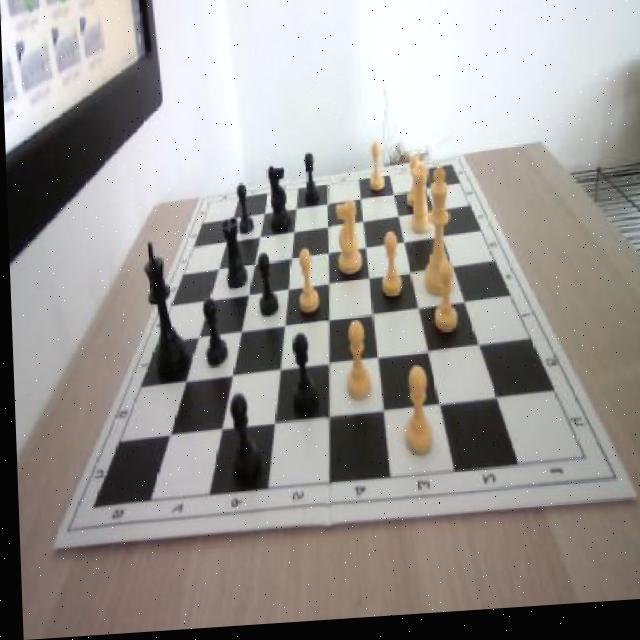black-bishop: (140, 243, 185, 381)
black-king: (265, 165, 289, 238)
black-knight: (224, 395, 256, 486), (287, 335, 316, 422), (201, 300, 227, 370), (253, 254, 276, 322), (235, 186, 252, 239), (300, 155, 317, 206)
black-queen: (216, 216, 244, 293)
white-bishop: (419, 171, 455, 302)
white-king: (333, 201, 361, 281)
white-knight: (398, 371, 433, 462), (337, 321, 371, 408), (429, 265, 458, 342), (377, 237, 403, 305), (293, 250, 316, 317), (365, 148, 385, 197), (403, 161, 422, 212)
white-queen: (406, 169, 431, 240)
